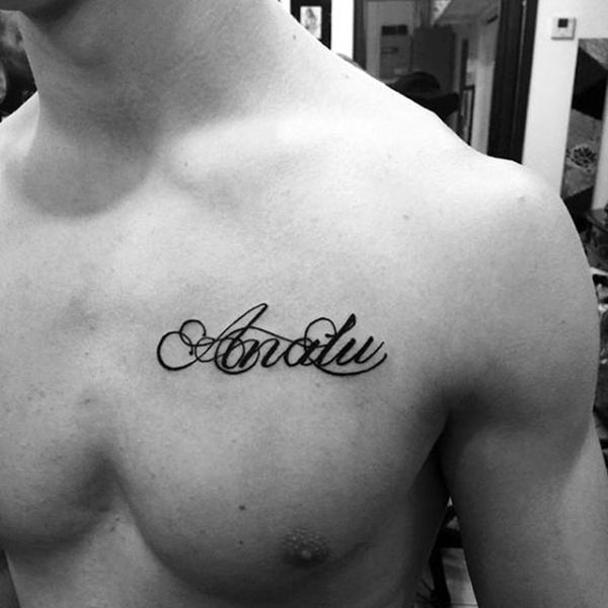tattoos: (155, 302, 389, 380)
